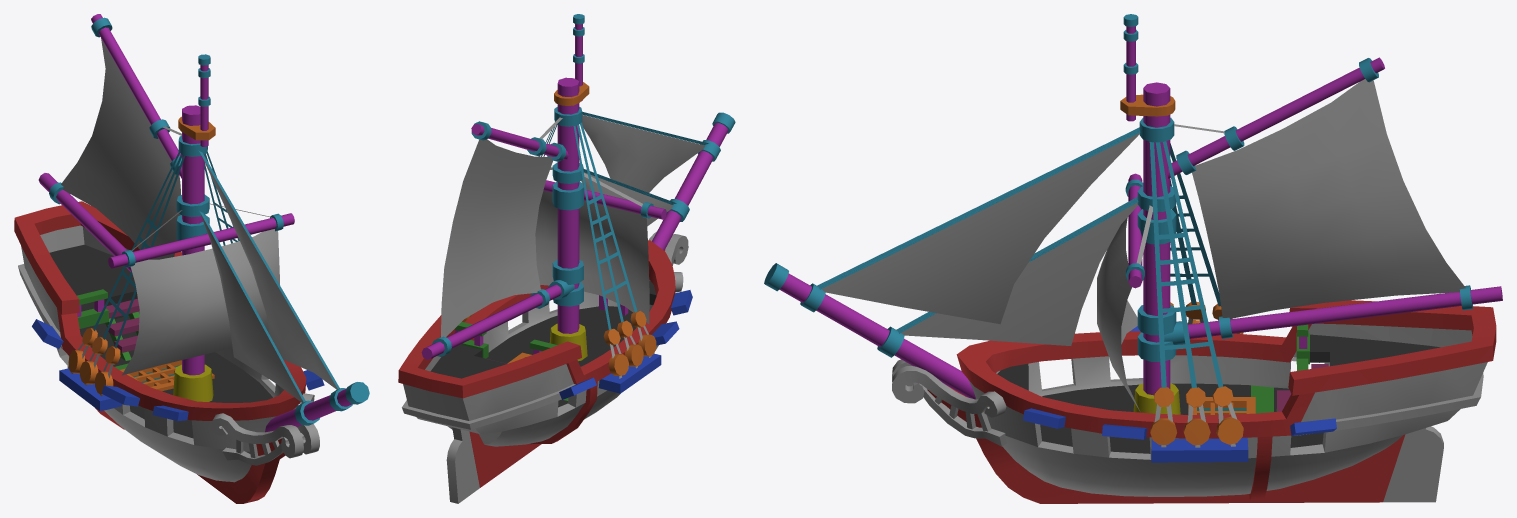
The model's file is Sloop_mm.fbx.
3 renders of one model, left to right at view 1: azimuth 30°, elevation 25°; view 2: azimuth 150°, elevation 25°; view 3: azimuth 270°, elevation 25°, orthographic. The views are drawn at different scales.
Visible parts, largest first — view 1: Sloop, Sails, Upgrade_01, Upgarde_02; view 2: Sloop, Sails, Rudder, Upgarde_02, Upgrade_01; view 3: Sloop, Sails, Upgrade_01, Rudder, Upgarde_02.
Part boxes in pixels (x1,y1,x2,y2): Sloop: (14, 14, 369, 503); Sails: (61, 38, 337, 402); Upgrade_01: (210, 393, 319, 465); Upgarde_02: (18, 264, 62, 348); Sloop: (398, 14, 735, 487); Sails: (441, 115, 705, 337); Rudder: (446, 427, 479, 503); Upgarde_02: (402, 384, 575, 429); Upgrade_01: (649, 231, 688, 292); Sloop: (764, 14, 1502, 503); Sails: (822, 79, 1465, 411); Upgrade_01: (892, 359, 1006, 446); Rudder: (1383, 426, 1443, 502); Upgarde_02: (1291, 357, 1483, 435).
Size of the model in its own units: 367 by 751 by 1041.
